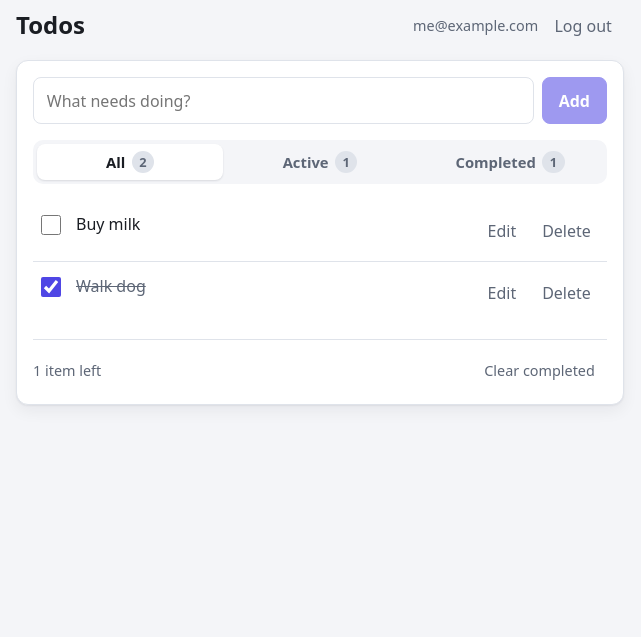
TodosPage › keeps the editor open and shows the error if saving fails
Expected: the text "Buy milk" is shown, [76,213,140,235]
Click the button with aria-label "Edit “Buy milk”".
click(502, 231)  # box [475,212,528,249]
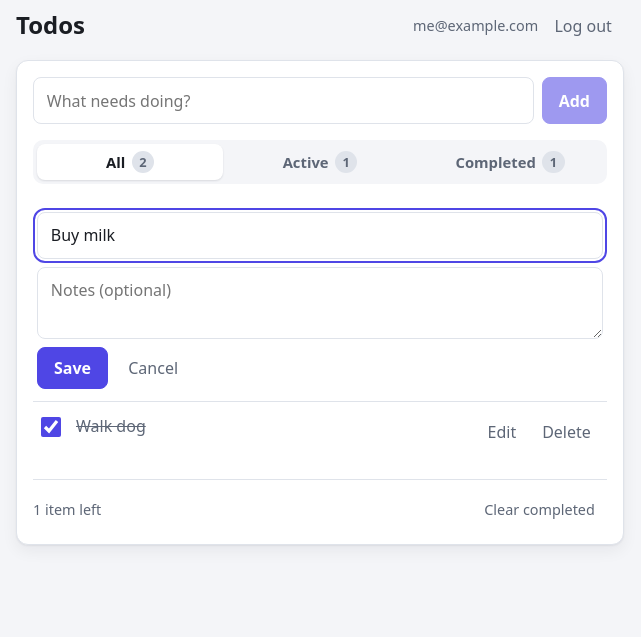
Type "!" into the field named "Title".
click(320, 235); type("!")  # box [37,212,603,259]
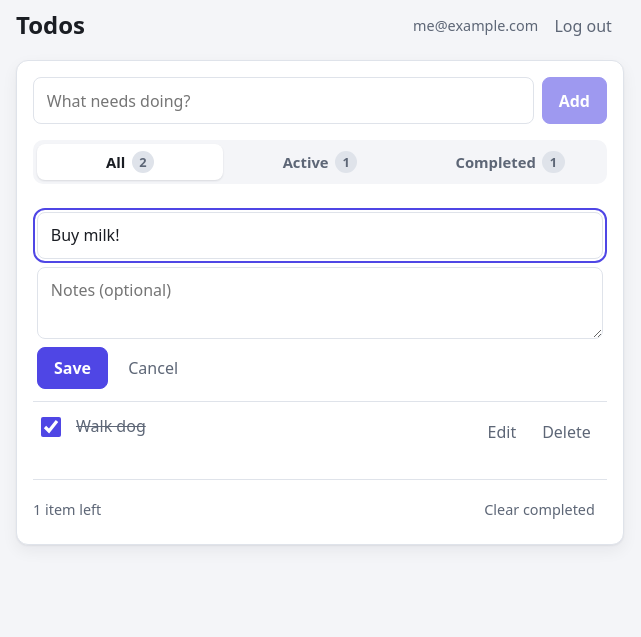
Click the button "Save".
click(72, 368)  # box [37,347,108,389]
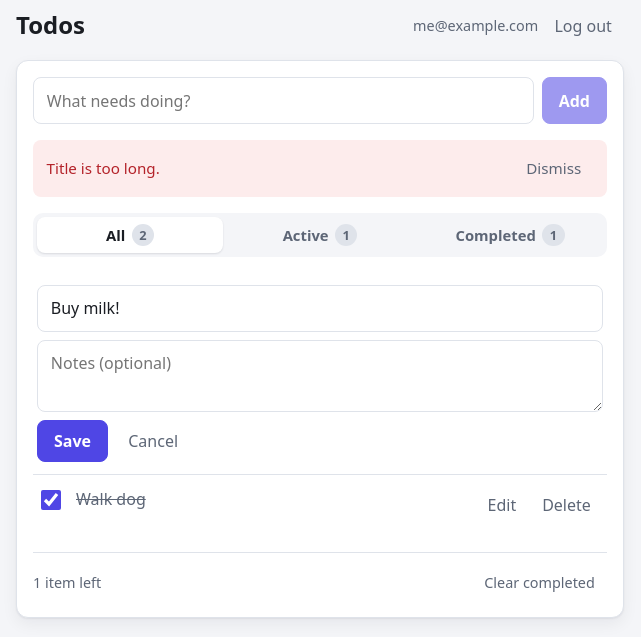
Expected: the field named "Title" is shown, [37,285,603,332]
Expected: the message shows "Title is too long.", [47,158,160,178]
